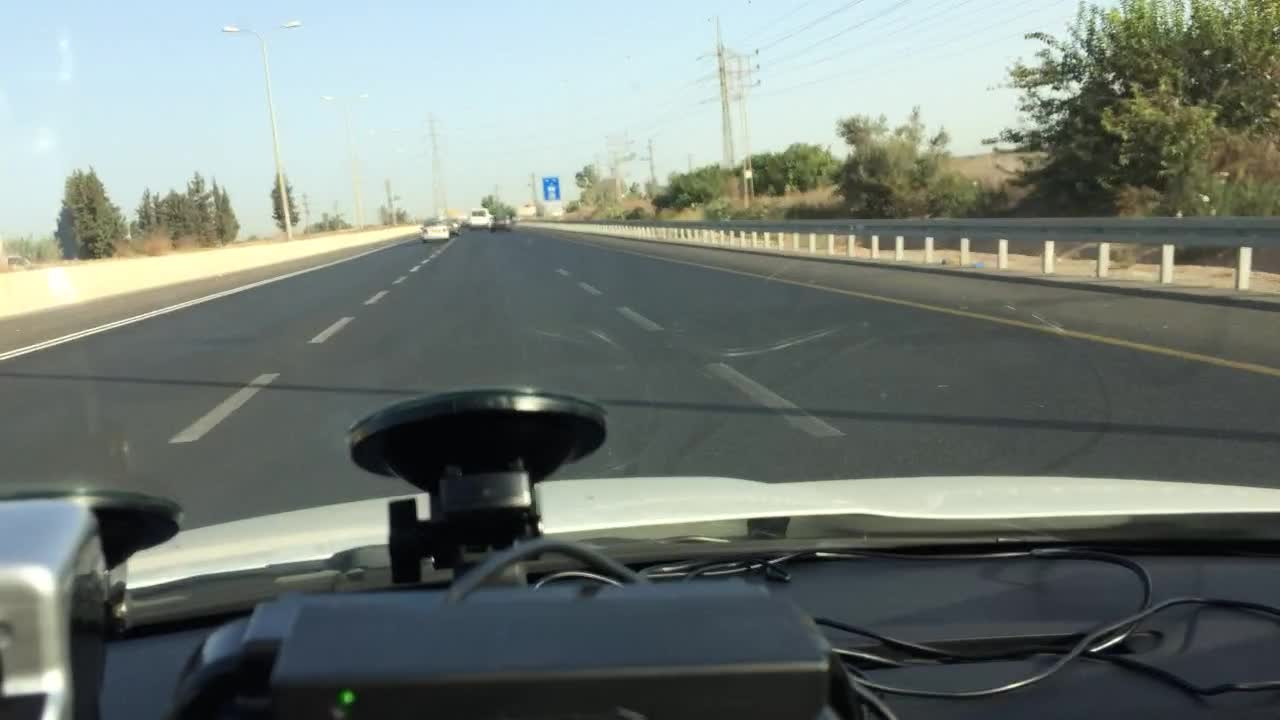car: (421, 218, 451, 240), (489, 209, 512, 233), (467, 208, 492, 229), (446, 217, 465, 235)
traffic sign: (540, 176, 559, 200)
